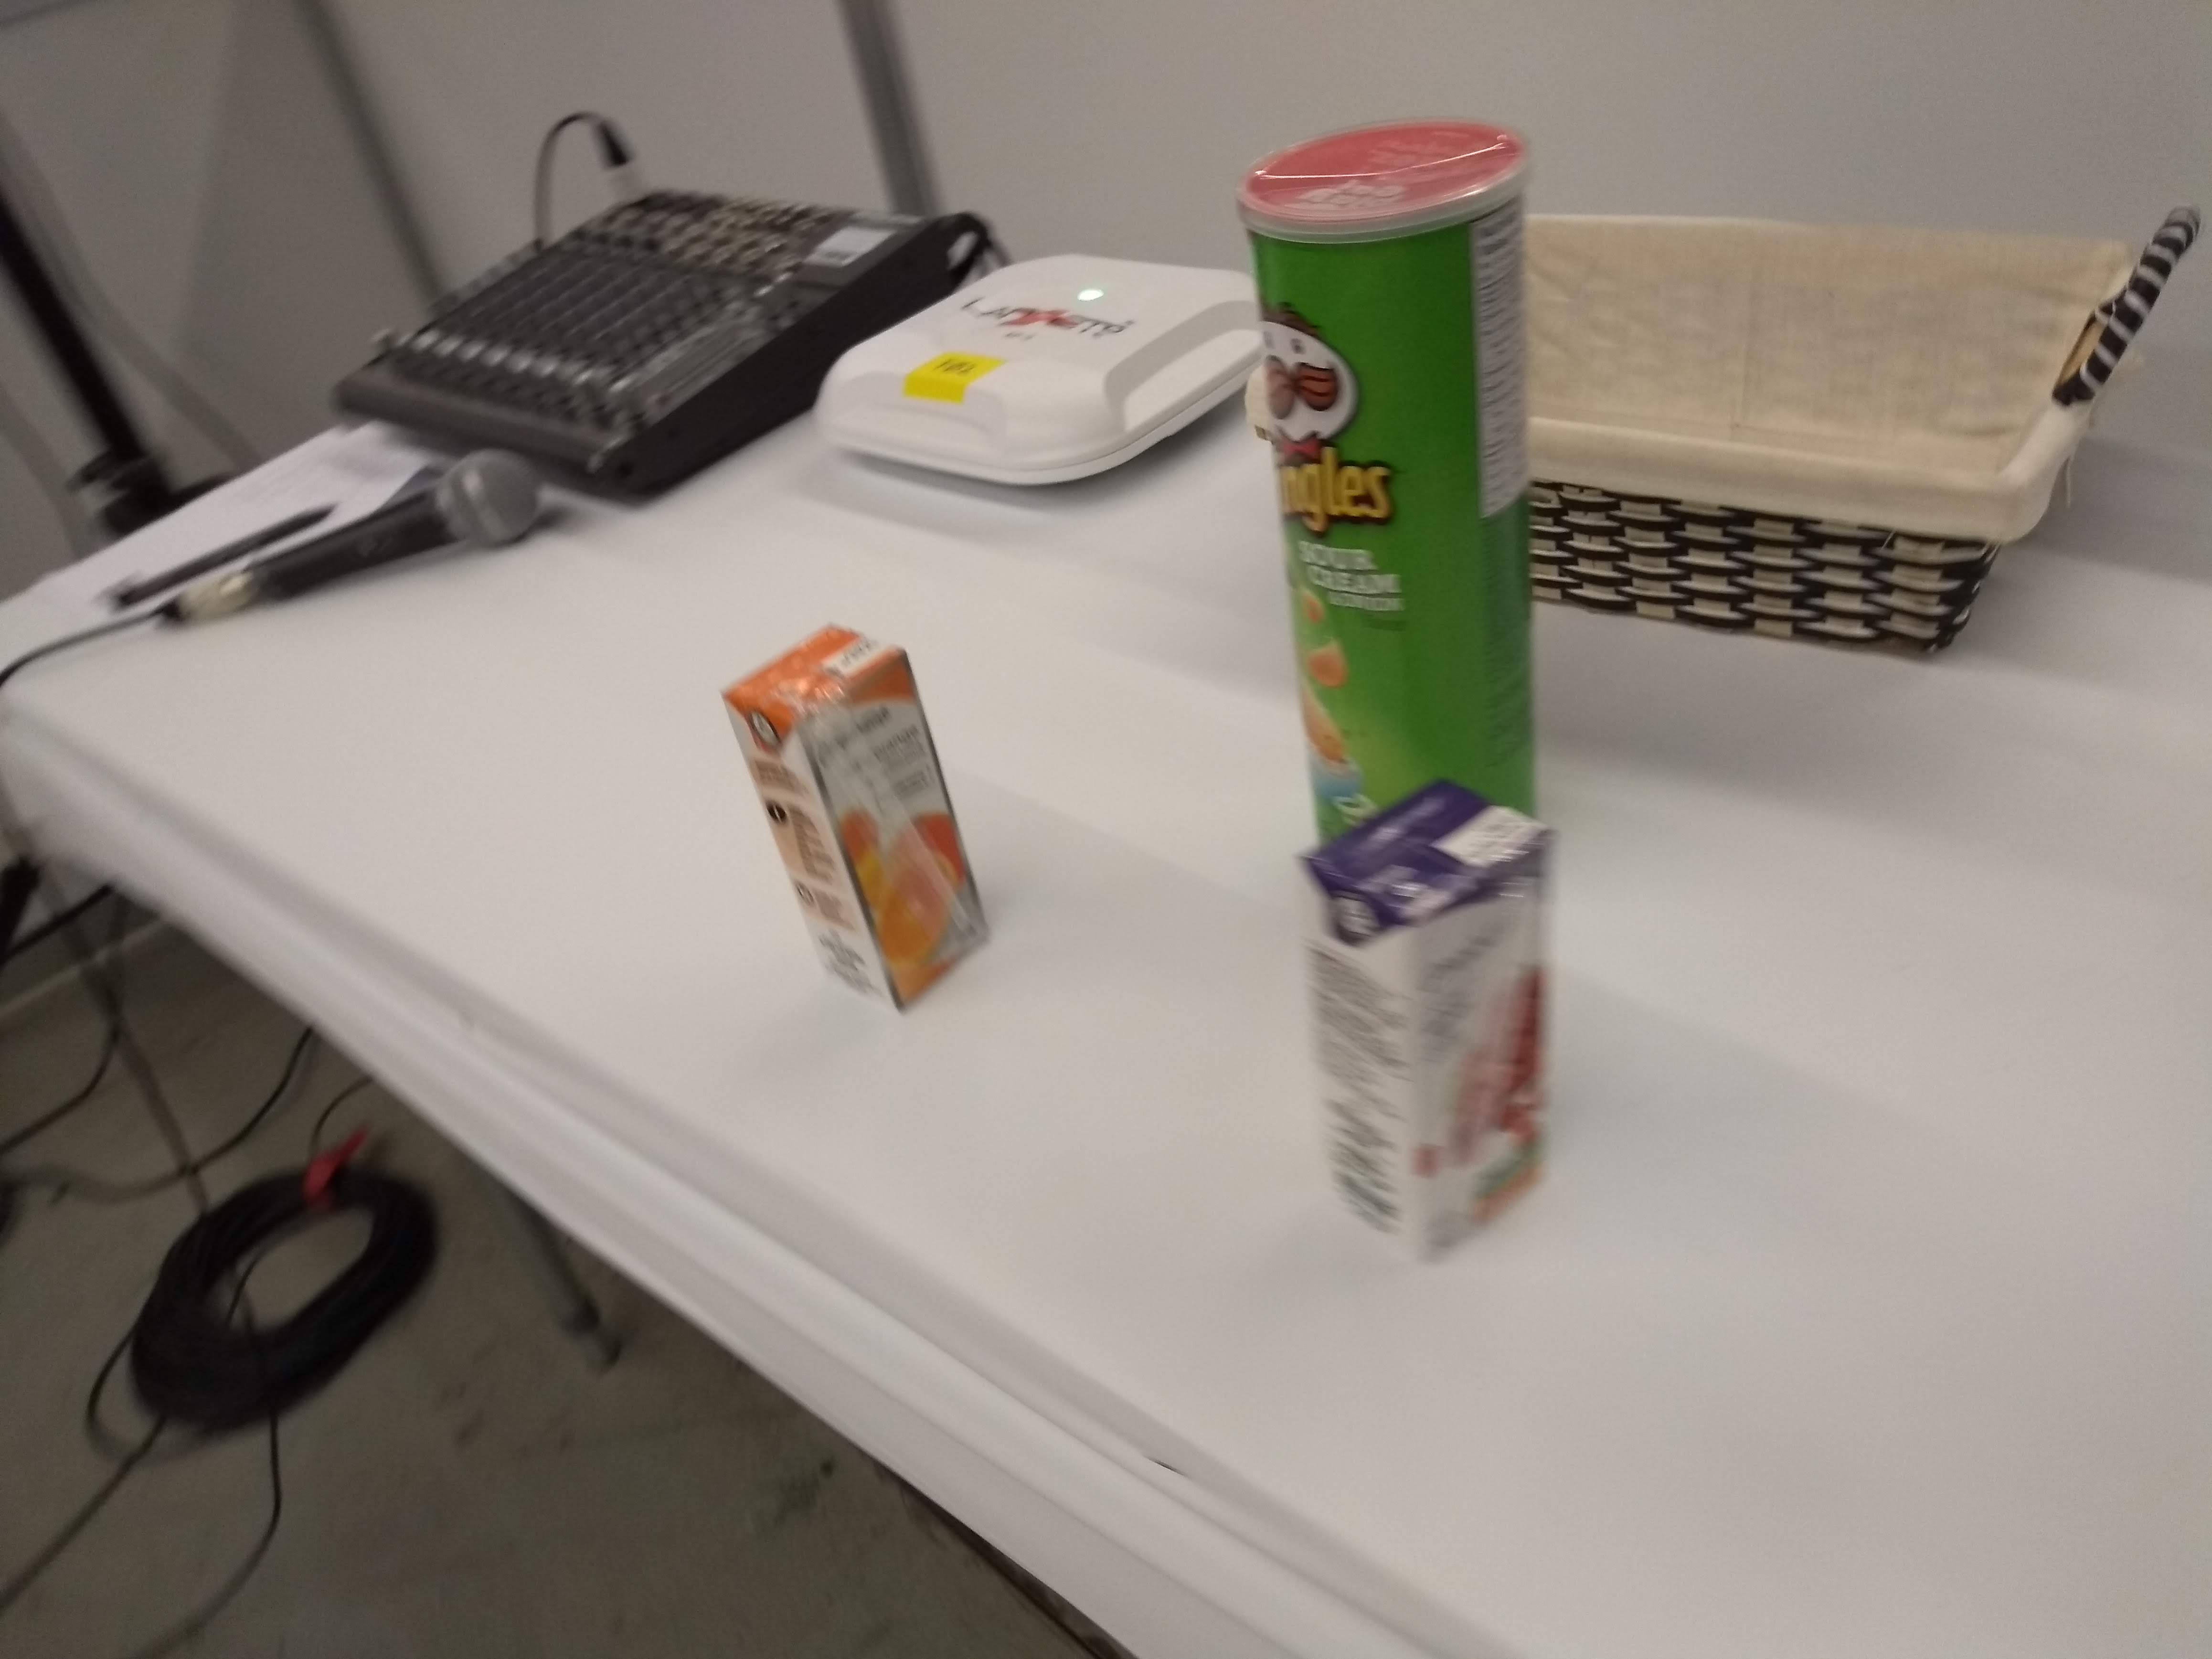grape_juice: (1298, 767, 1569, 1276)
orange_juice: (707, 613, 1001, 1026)
pringles: (1231, 108, 1559, 852)
